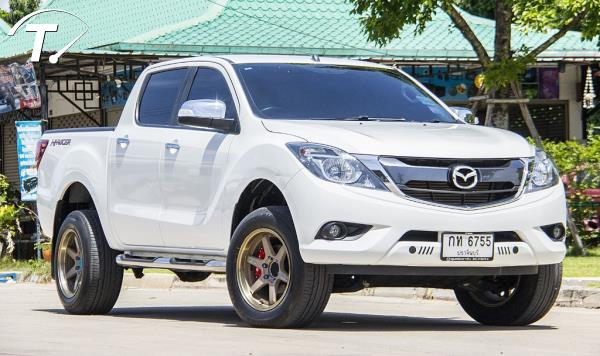pickup: (35, 54, 569, 327)
